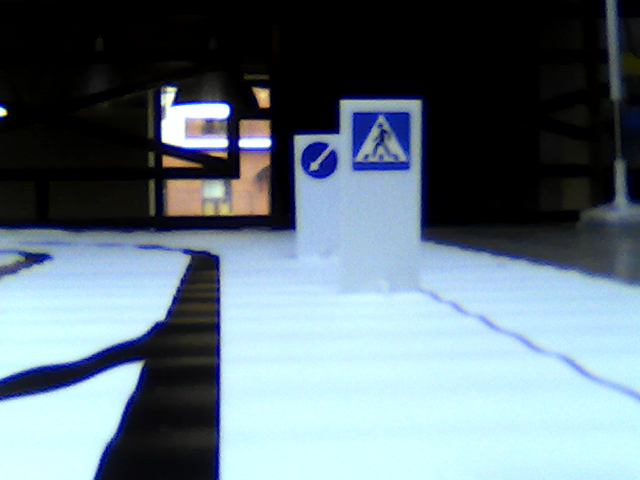pesh: (352, 107, 412, 172)
prep: (301, 139, 338, 179)
